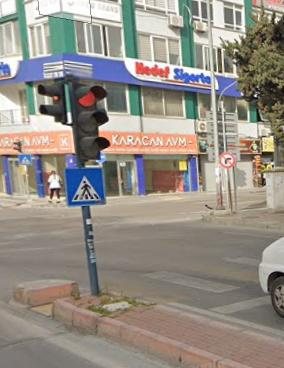redlight: (71, 82, 108, 158)
